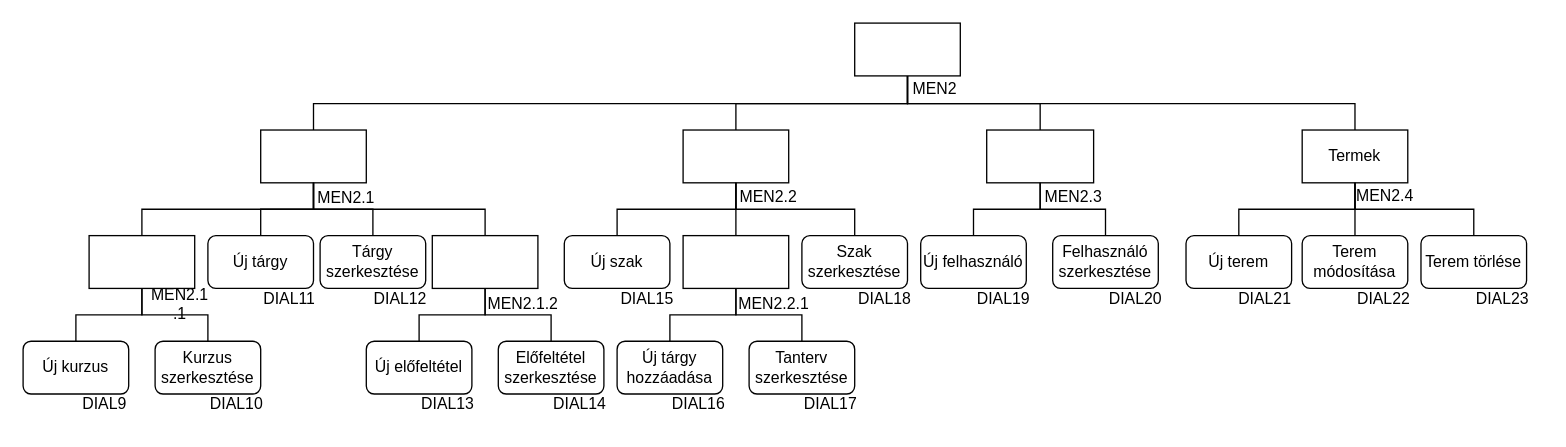
Some shapes in this 1566 by 447 pixel diagram are drawn without their labels. The shapes that lost their labels are listed below. From the top down, each one's centre as x and y in pixels, then its label:
At (x=906, y=49): "Admin Főmenü".
At (x=312, y=156): "Tárgyak".
At (x=735, y=156): "Szakok".
At (x=1039, y=156): "Felhasználók".
At (x=141, y=261): "Tárgy kurzusai".
At (x=484, y=261): "Tárgy előfeltételei".
At (x=735, y=261): "Szak tanterve".
